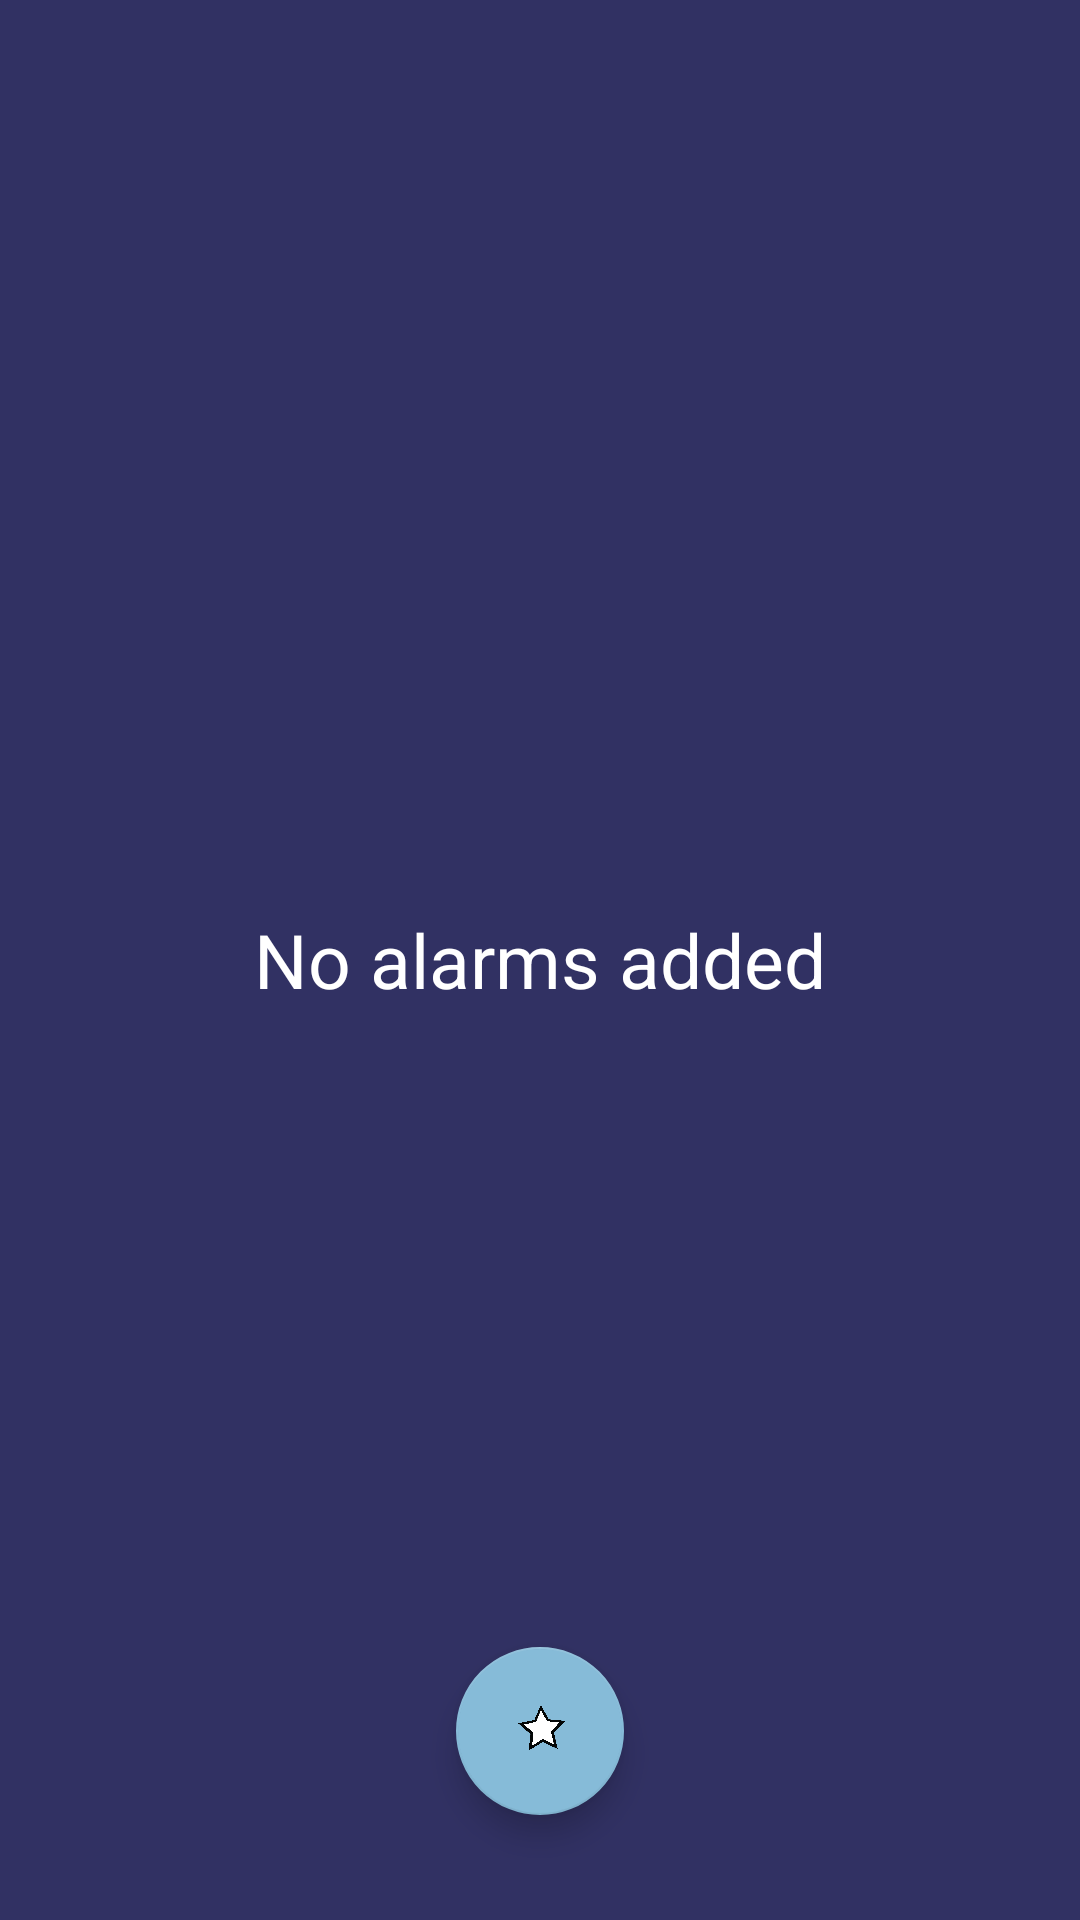

Where icons sit on this 1080 × 1920 app screen, as (x1, y1, x2, y2):
star: (456, 1647, 624, 1815)
